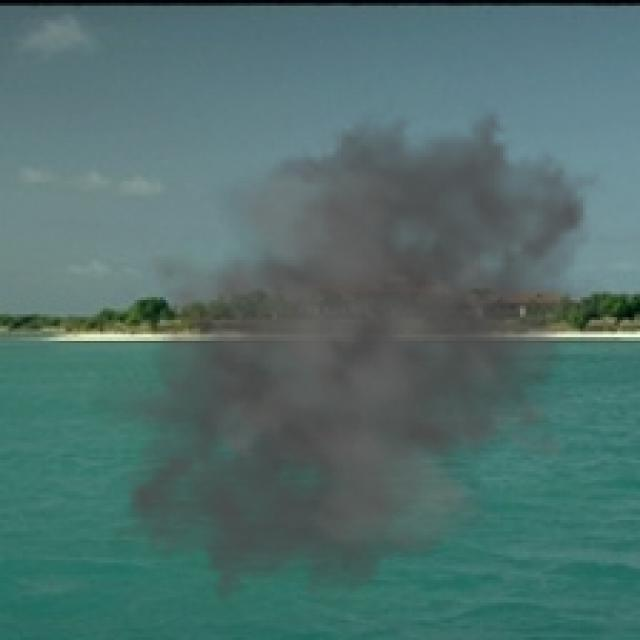Smoke: (86, 74, 632, 637)
